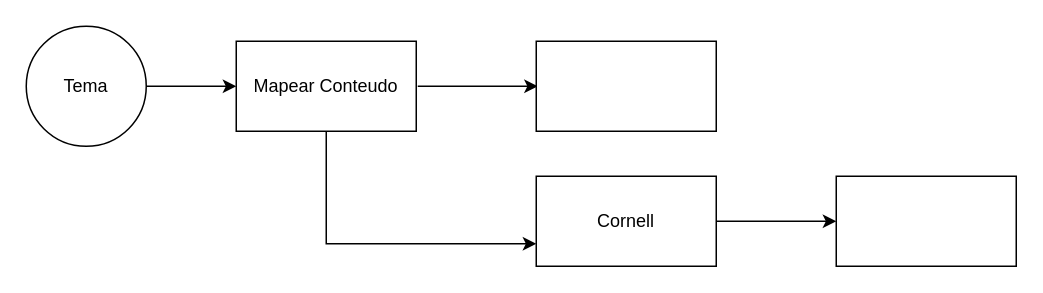
Image size: 1043x293. Some labels were removed from this diagram. Here are the shapes that lost their labels. From the top down, the centre of each, then its label:
the point at 625,85: Focus - Pomodoro
the point at 925,220: Cadastrar Anki
